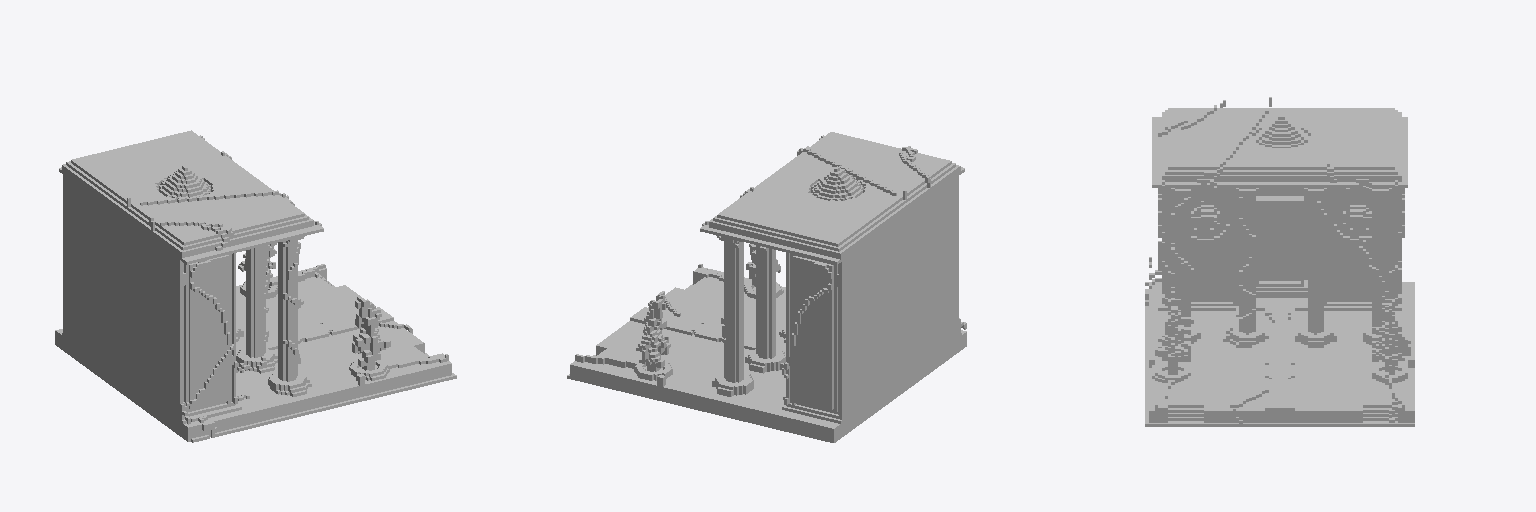
Rendered from building004.obj.
3 renders of one model, left to right at view 1: azimuth 30°, elevation 25°; view 2: azimuth 150°, elevation 25°; view 3: azimuth 270°, elevation 25°, orthographic.
Bounding box in the file's own units: 95 × 72 × 83.